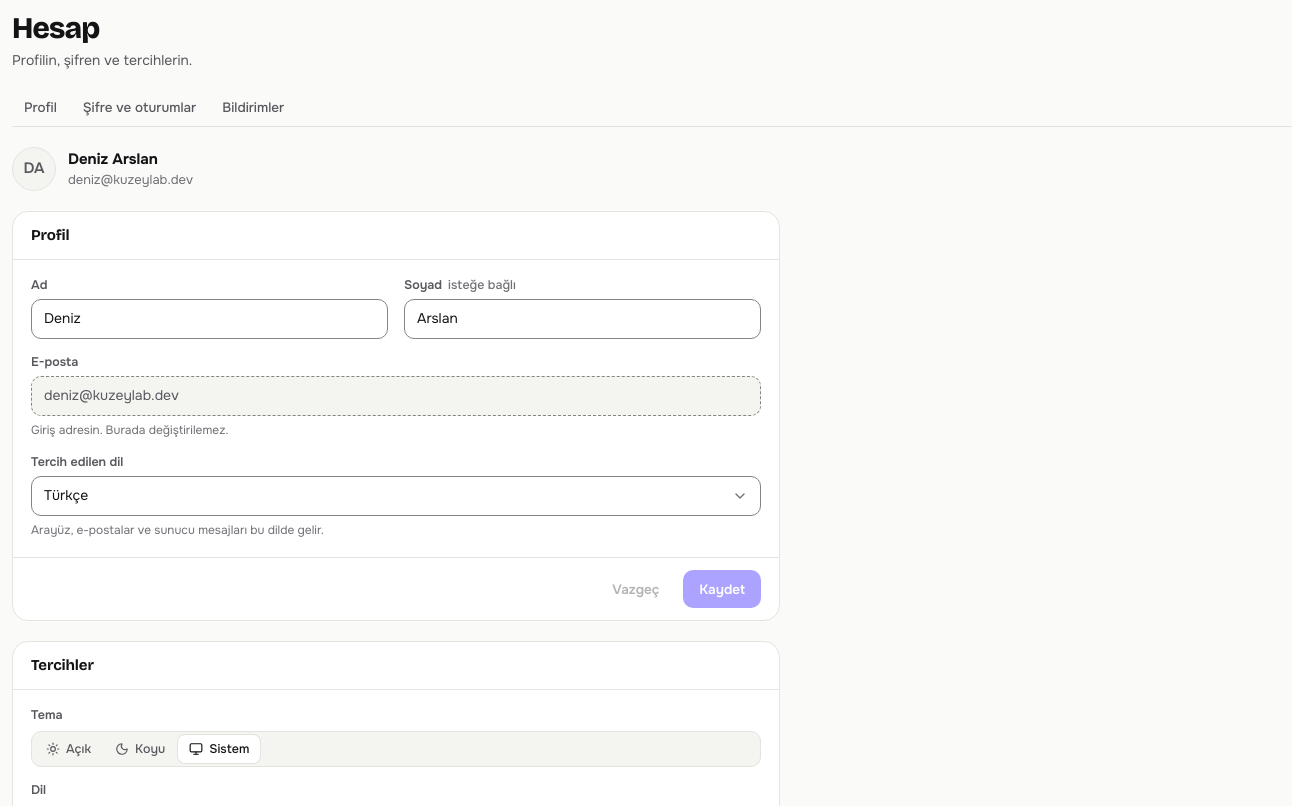
Scenario: account profile › asks for a name before sending
Clear the field labelled "Ad" at (210, 319), box [31,299,388,339]
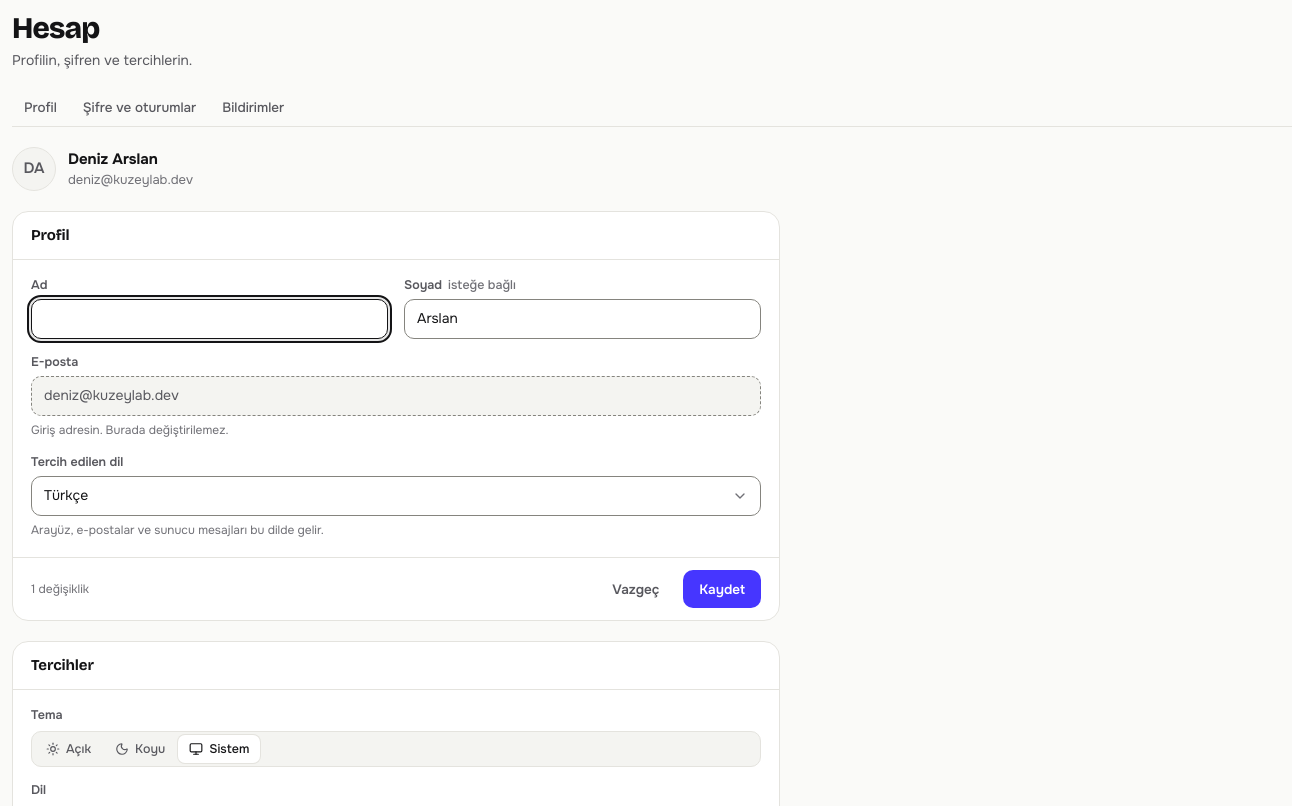
Click the button "Kaydet" at (722, 589), box [683,570,761,608]
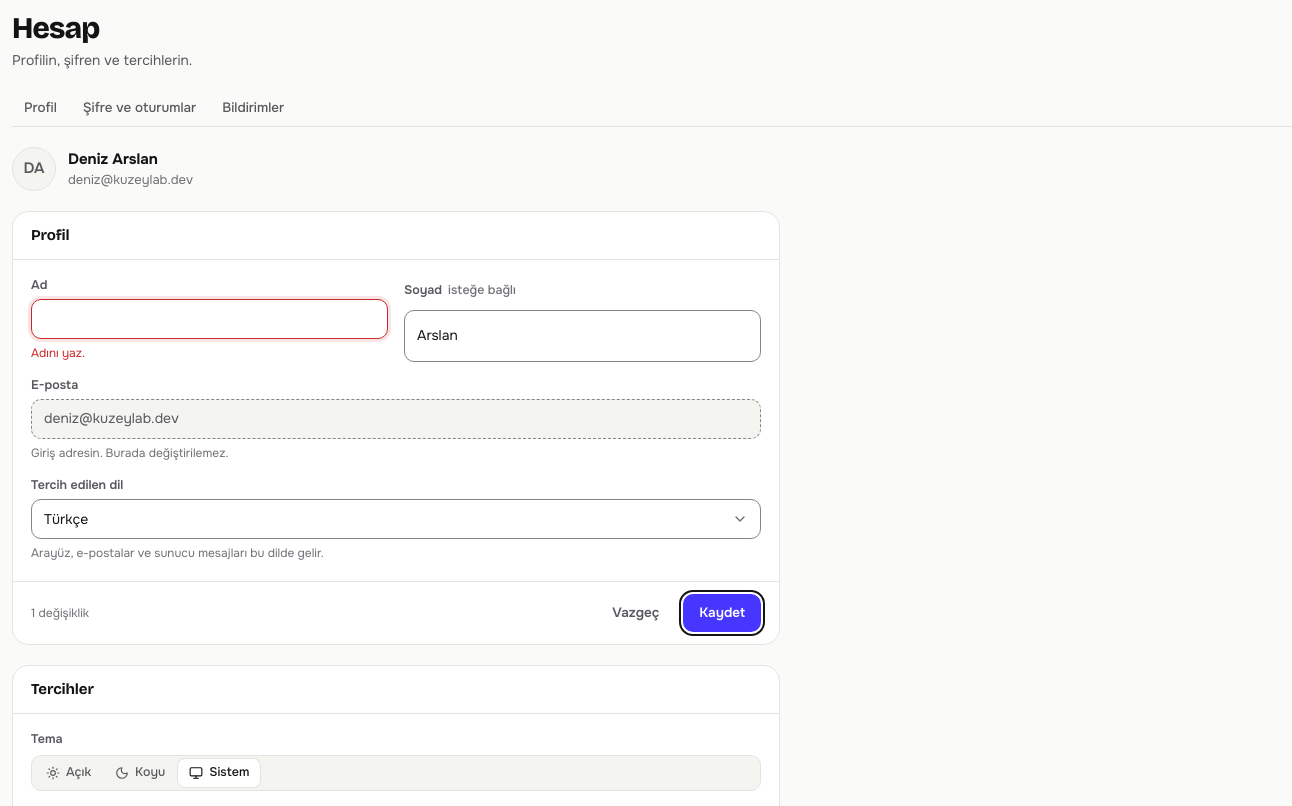
Check: the text "Adını yaz." is shown, box [31,345,85,361]
